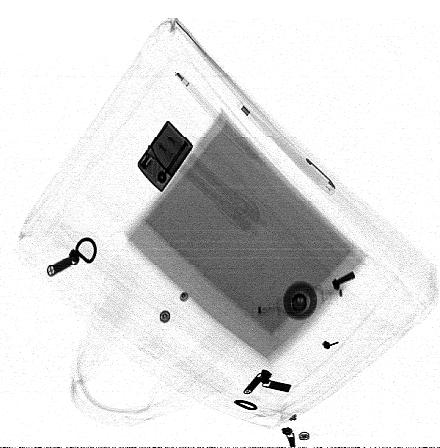Lighter: (138, 121, 194, 193)
